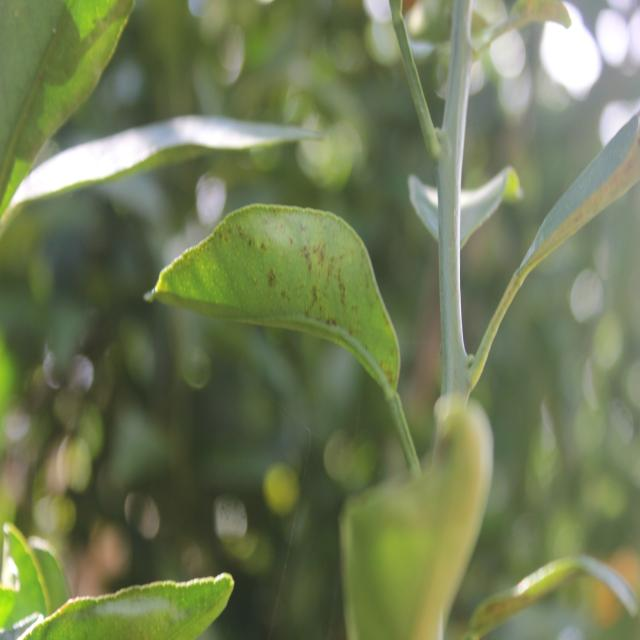melanose: (153, 197, 398, 402)
